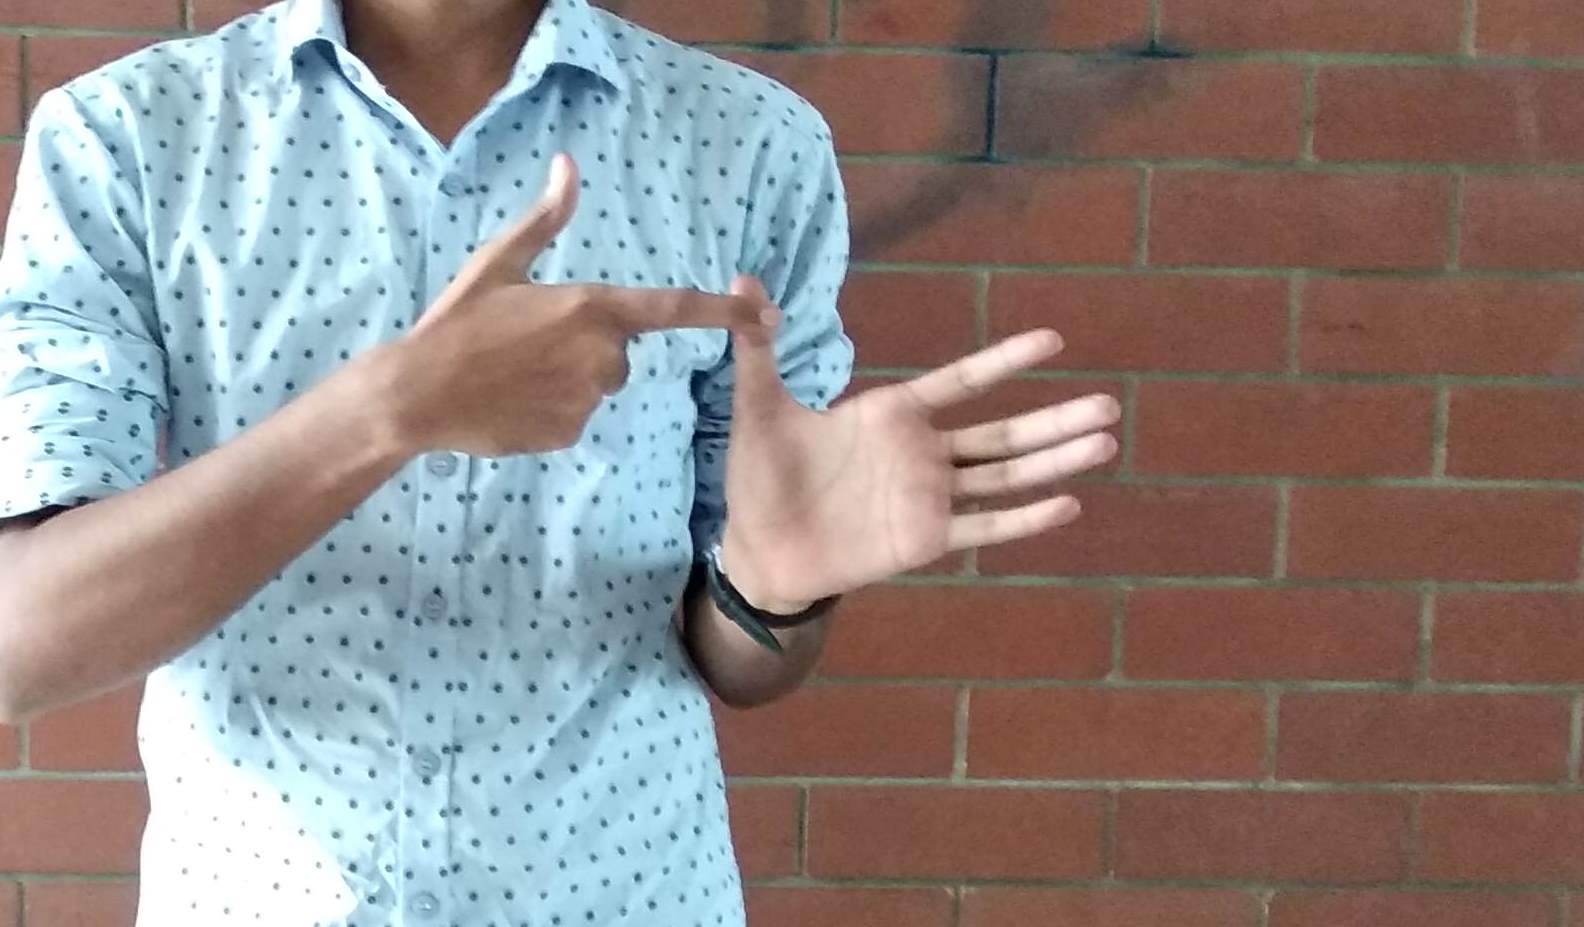a: (465, 154, 1100, 546)
